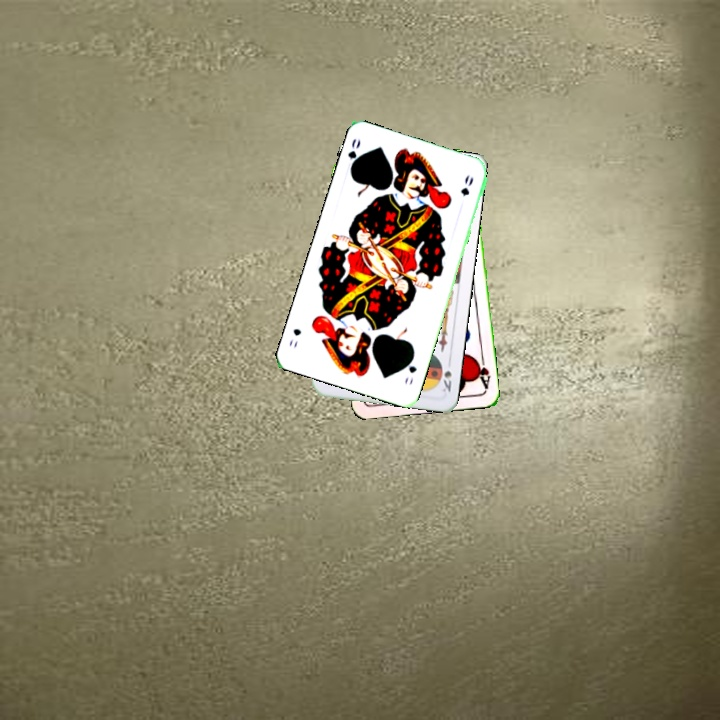GO: (343, 134, 364, 175), (400, 351, 419, 388)
HA: (472, 351, 493, 392)
SK: (438, 355, 454, 394)
